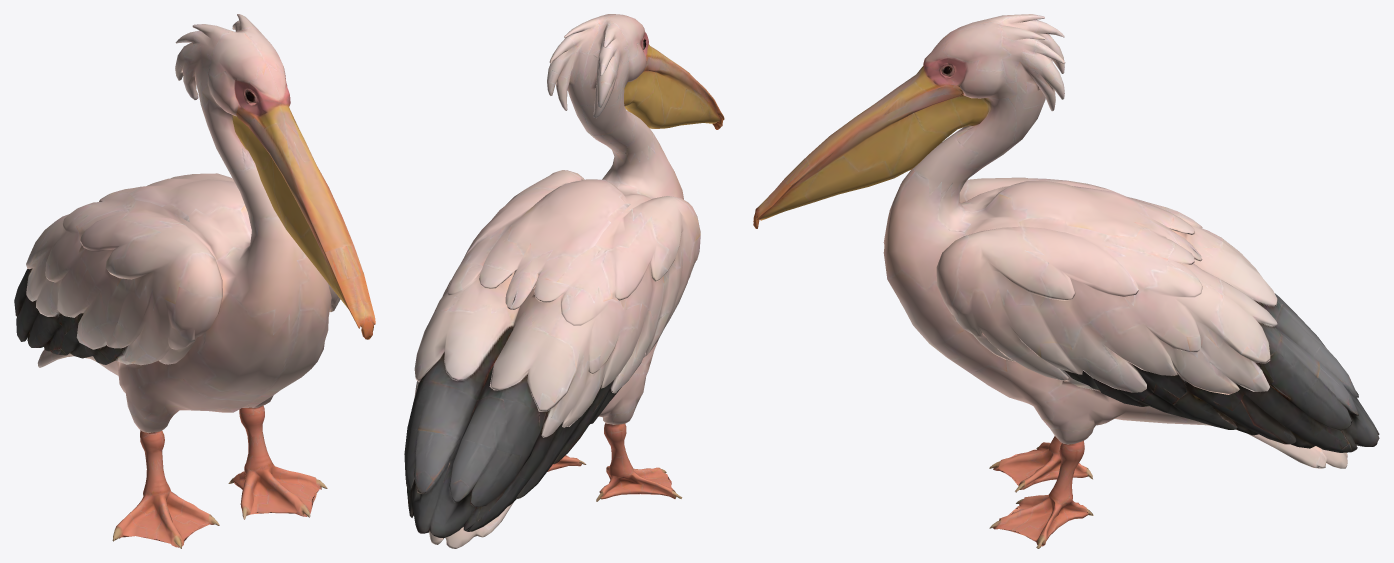
The model's file is pelican-kun.glb.
The picture shows the model from 3 angles, left to right: view 1: azimuth 30°, elevation 25°; view 2: azimuth 150°, elevation 25°; view 3: azimuth 270°, elevation 25°; orthographic projection. The views are drawn at different scales.
Visible parts, largest first — view 1: geometry_0; view 2: geometry_0; view 3: geometry_0.
Boxes of the visible parts, x1,y1,x2,y2 form: geometry_0: [14, 14, 375, 548]; geometry_0: [404, 14, 724, 548]; geometry_0: [753, 14, 1379, 548].
Bounding box in the file's own units: 0.3585 × 0.7999 × 0.9502.
1 material, 1 textured.
